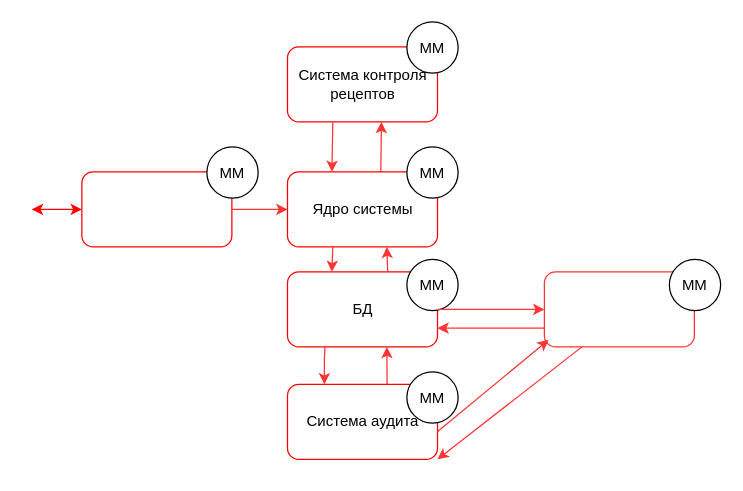
The diagram is 743 pixels wide and 491 high, and some of its shapes have lost their labels. Here are the shapes that lost their labels. From the top down, the centre of each, then its label:
[156,209]: Связь
[618,309]: Робот-фармацевт
